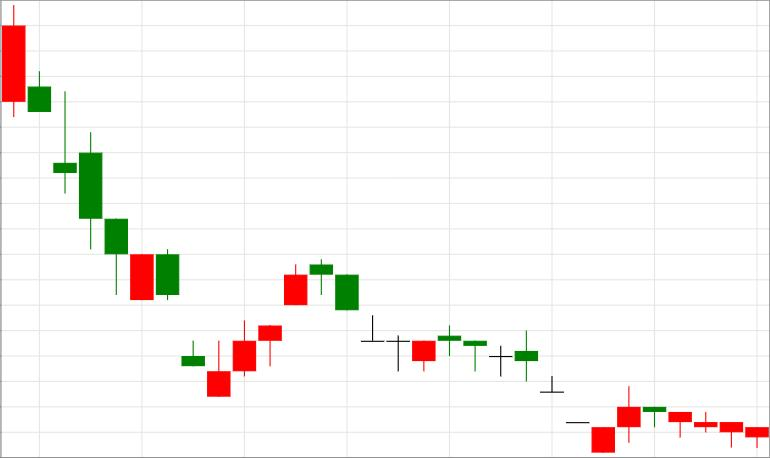evening_star_fall: (207, 259, 358, 398)
hammer_rise: (28, 71, 128, 294)
